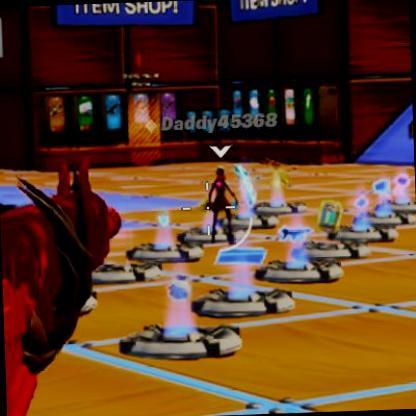person: (202, 163, 238, 238)
